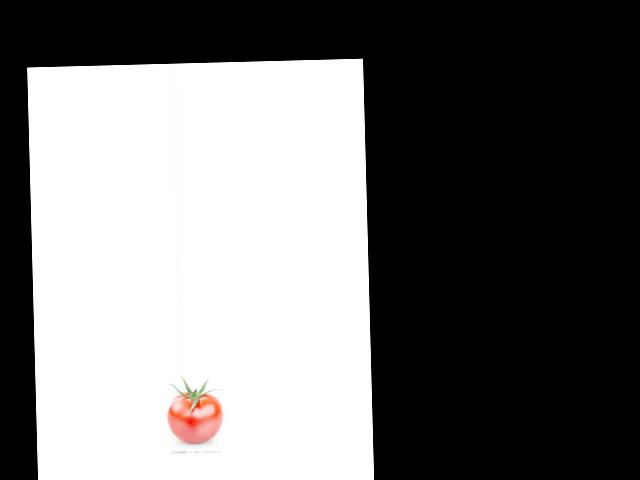tomato: (166, 391, 223, 443)
